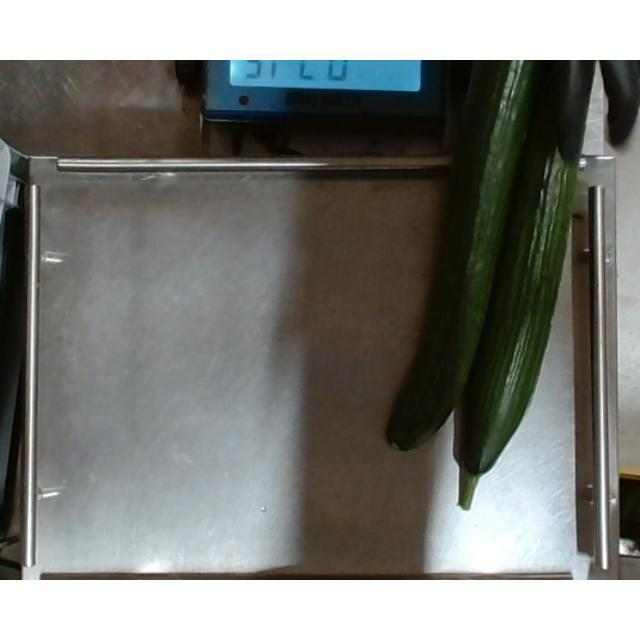cucumber: (450, 60, 596, 512), (386, 61, 534, 456)
